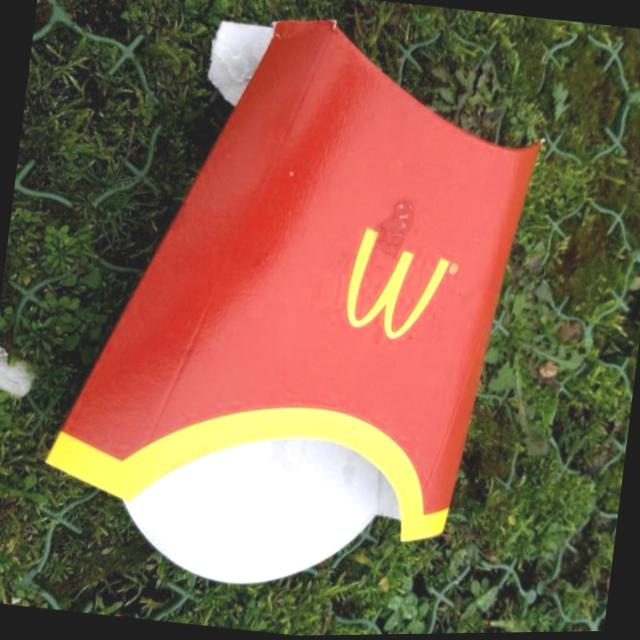Paper: (28, 0, 560, 621)
